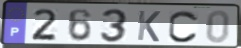0: (204, 9, 232, 45)
2: (30, 8, 58, 42)
3: (99, 8, 131, 44)
6: (67, 8, 93, 43)
C: (167, 9, 200, 44)
K: (136, 9, 162, 43)
